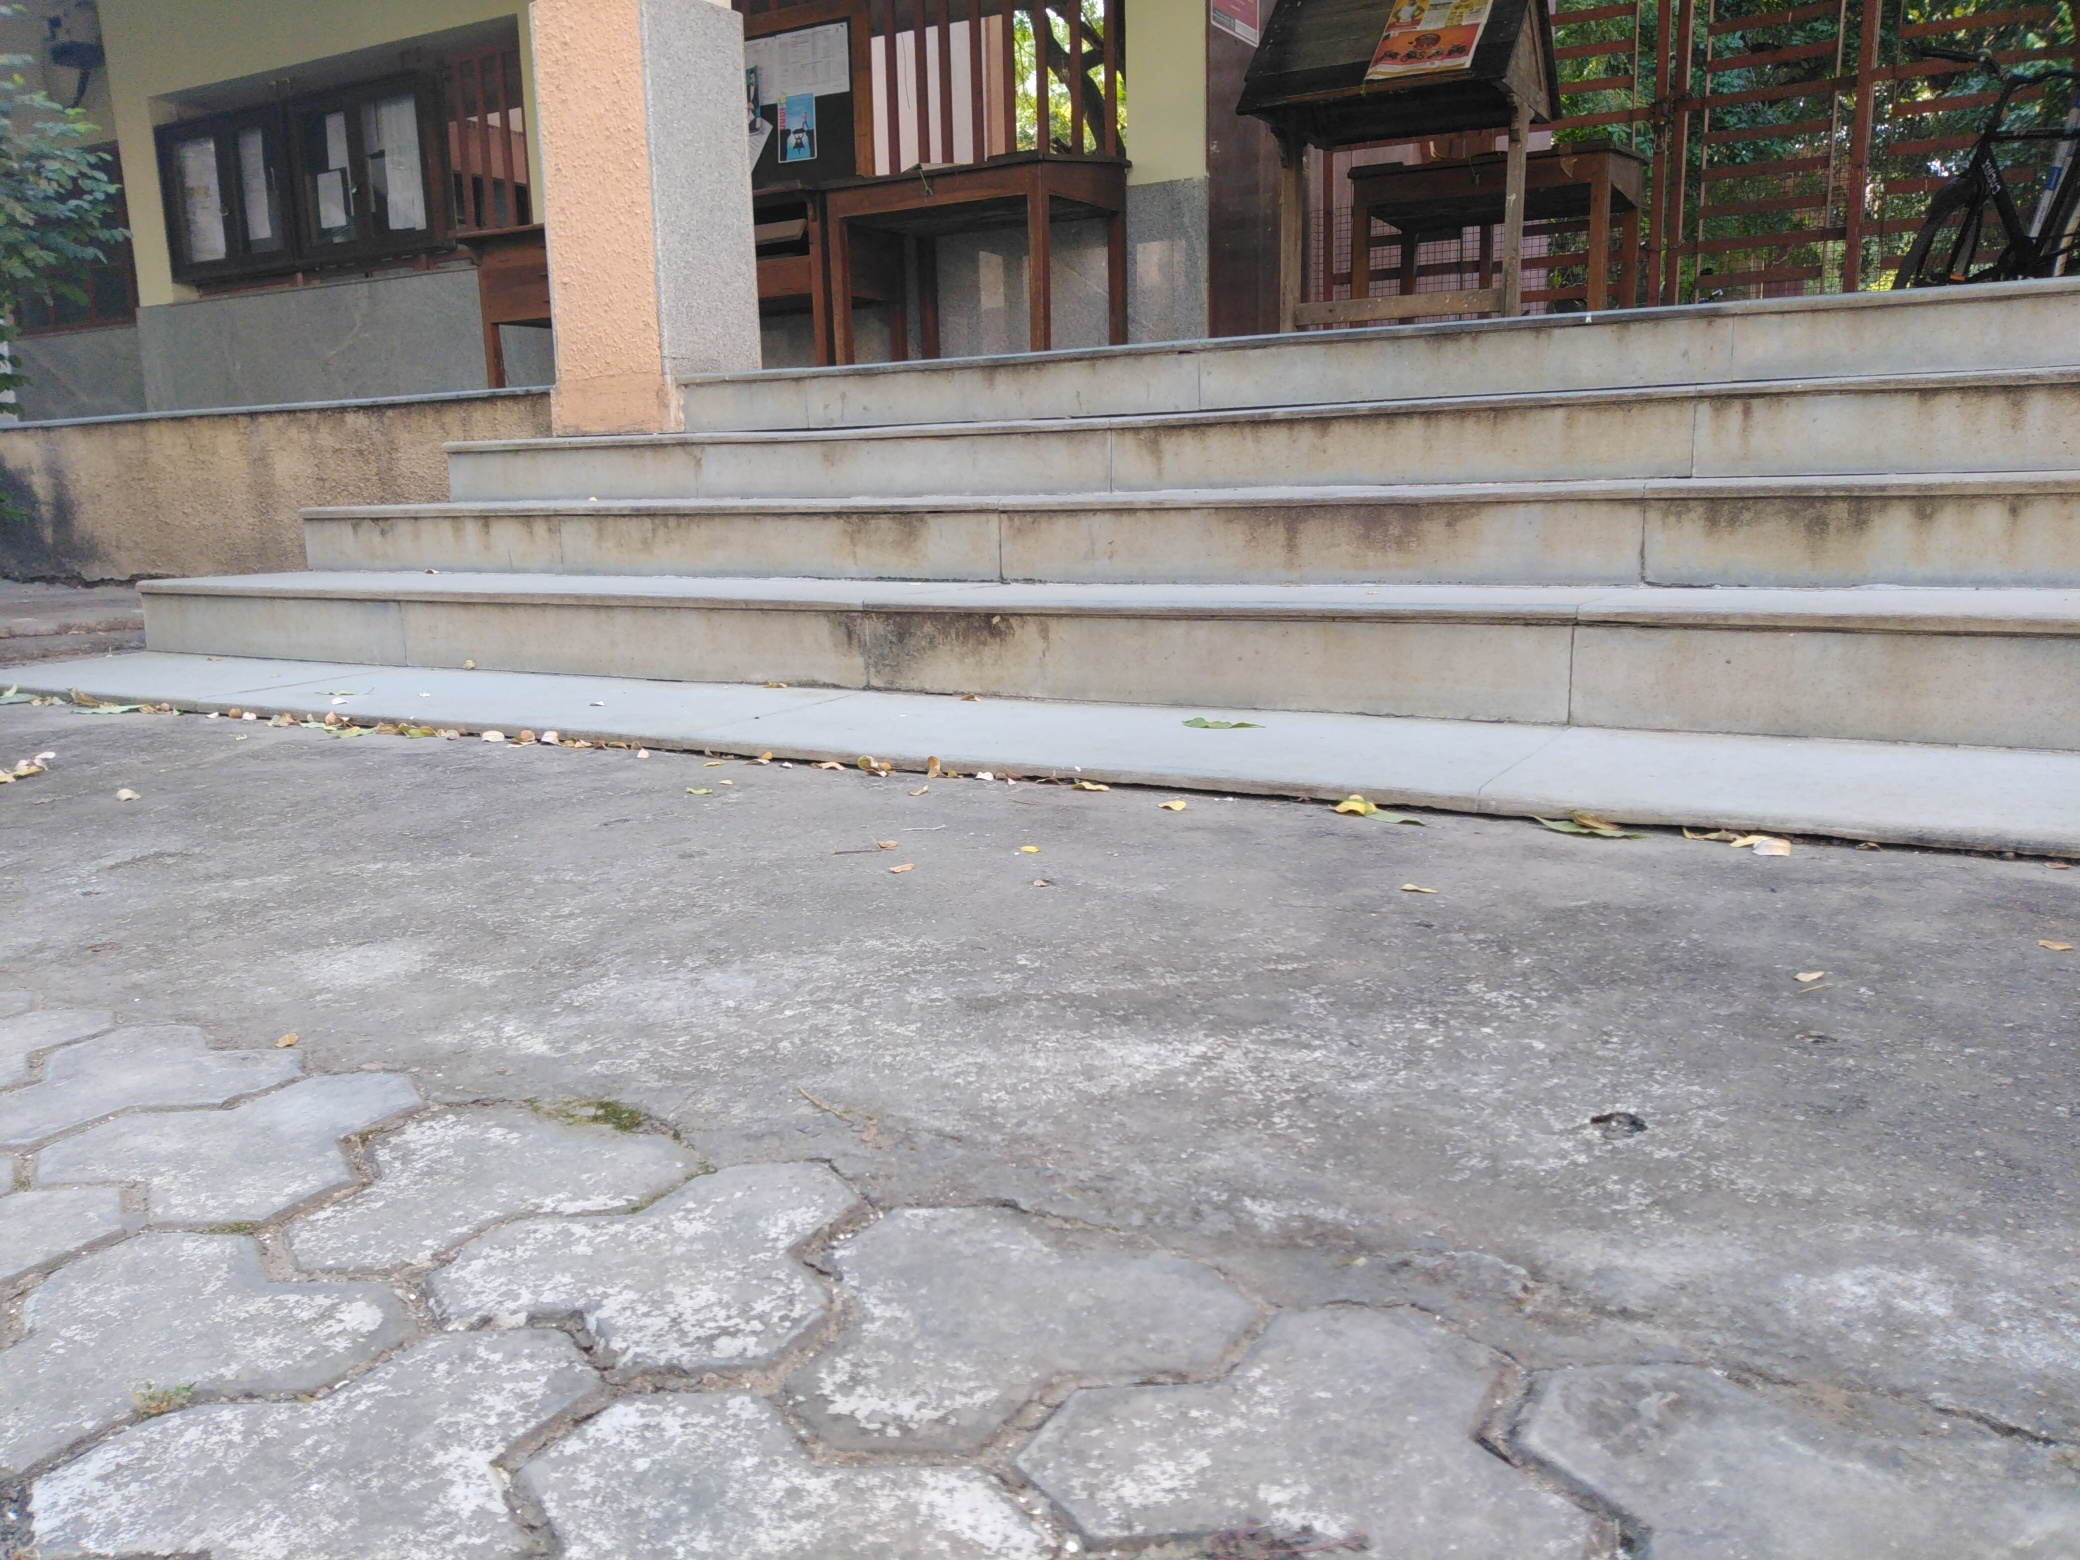stairs_up: (144, 270, 2075, 670)
